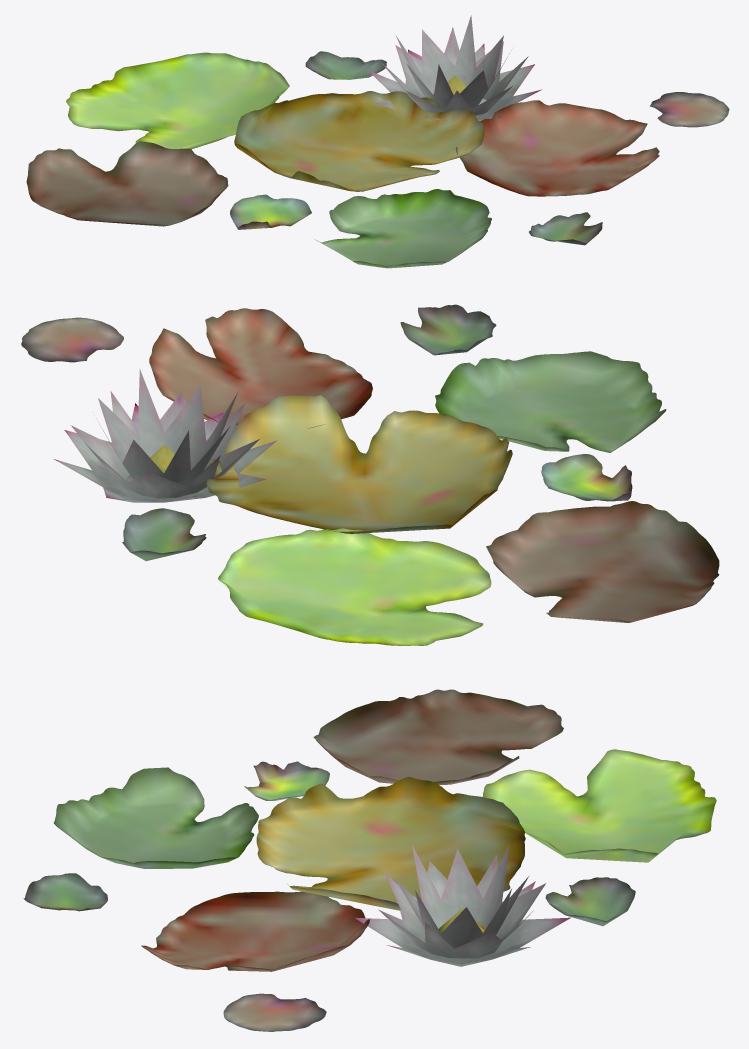
The model's file is Model_WaterPlant_02.fbx.
3 views of the same model, one above another, from view 1: azimuth 30°, elevation 25°; view 2: azimuth 150°, elevation 25°; view 3: azimuth 270°, elevation 25° (orthographic). The views are drawn at different scales.
Parts seen in each view (by area): view 1: WaterPlant_02; view 2: WaterPlant_02; view 3: WaterPlant_02.
Part boxes in pixels (box(x1,y1,x2,y2)): WaterPlant_02: box(26, 15, 729, 268); WaterPlant_02: box(21, 304, 719, 645); WaterPlant_02: box(23, 689, 716, 1031).
Bounding box in the file's own units: 91.83 × 10.29 × 77.95.
